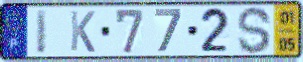2: (199, 5, 233, 57)
7: (153, 7, 185, 55), (114, 8, 145, 55)
I: (34, 8, 49, 56)
K: (69, 9, 97, 54)
S: (236, 5, 273, 56)
